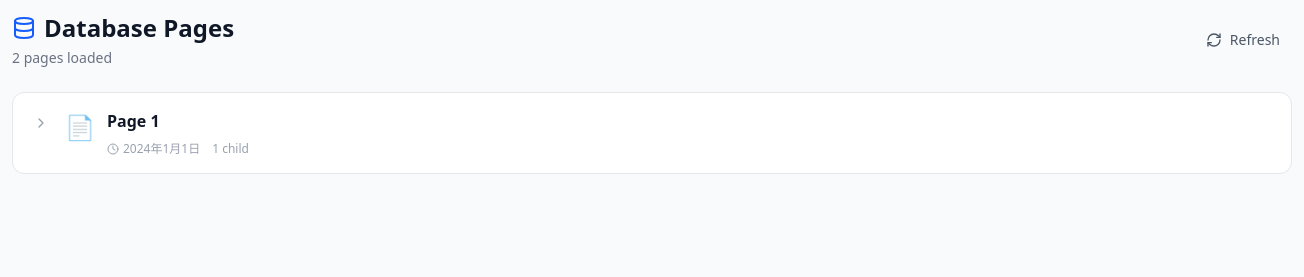
Test: PageList › should collapse child pages when clicking expand button again
Expected: the heading "Page 1" is shown, top-left (107, 110), bottom-right (160, 132)
Click the 2nd button. click: (41, 123)
box: top-left (29, 111), bottom-right (53, 135)
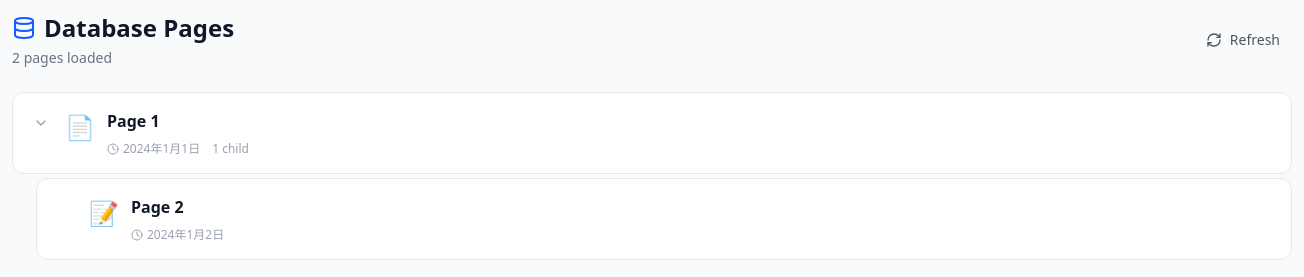
Expected: the heading "Page 2" is shown, top-left (131, 196), bottom-right (184, 218)
Click the 2nd button. click: (41, 123)
box: top-left (29, 111), bottom-right (53, 135)
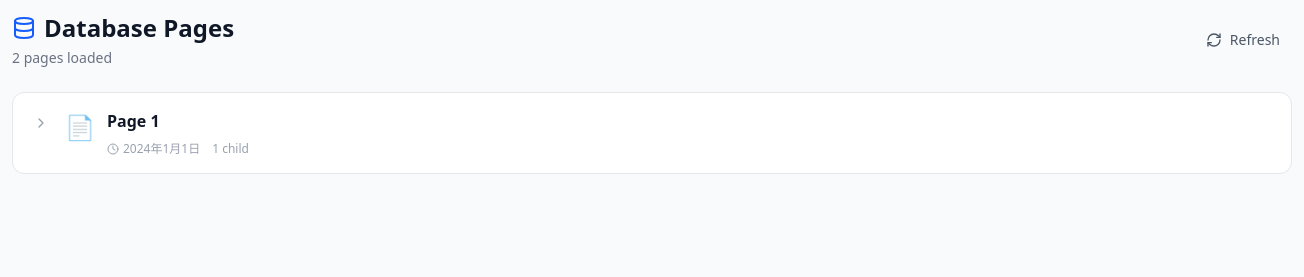
Expected: the link "Page 2" is gone
